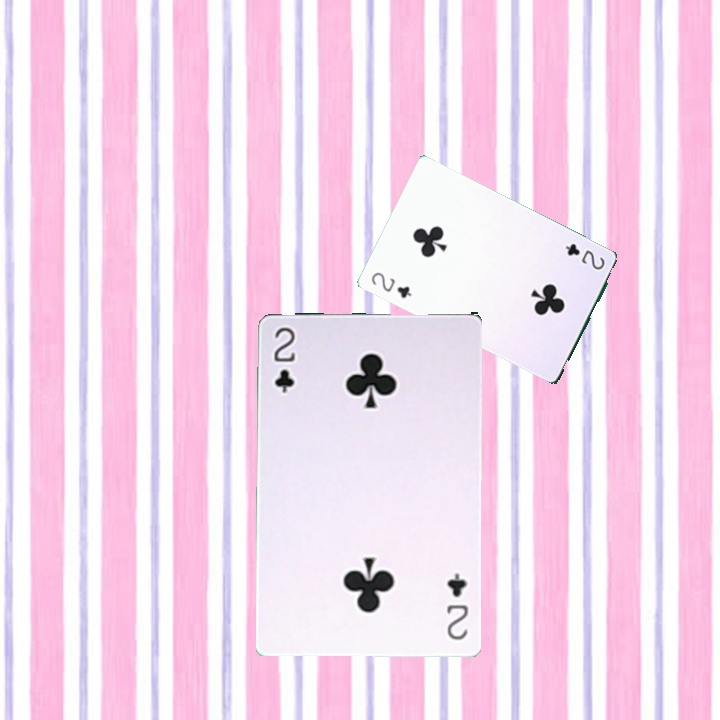2c: (443, 569, 471, 643), (270, 323, 297, 395), (561, 239, 607, 273), (367, 268, 414, 301)
